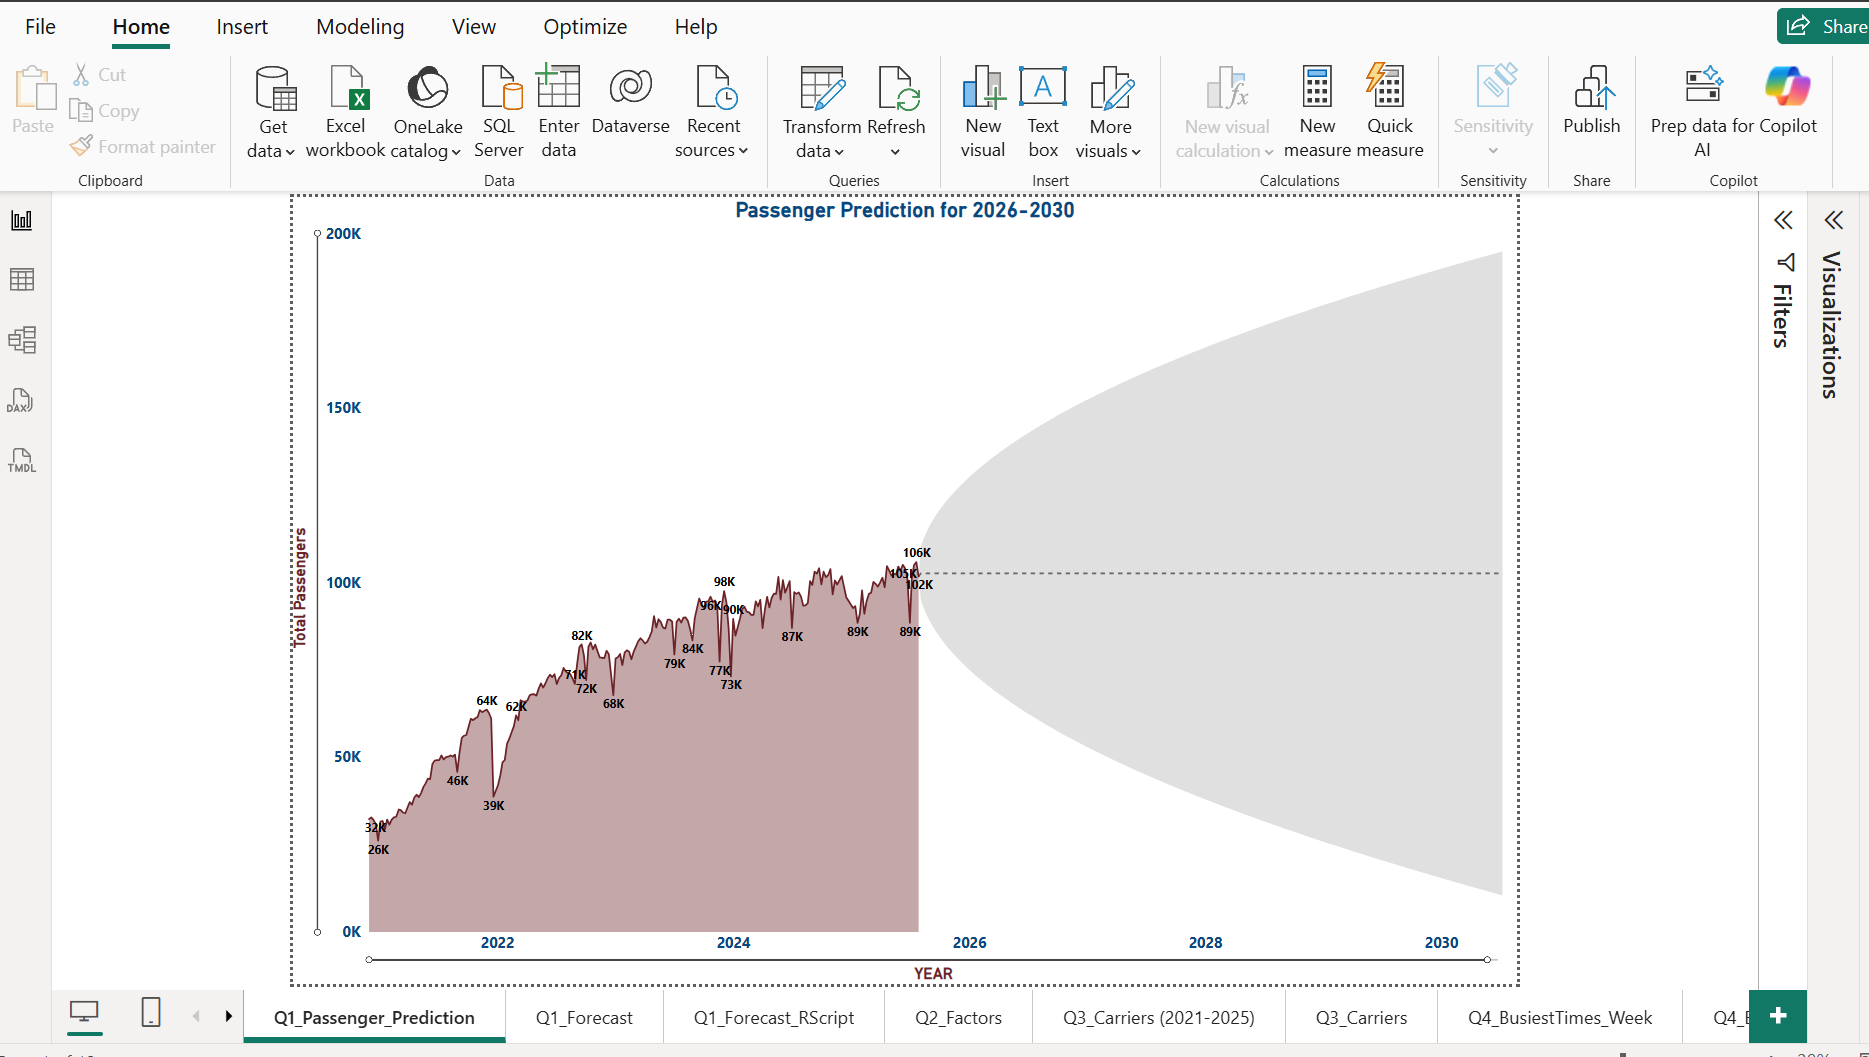

This screenshot's page, from the dashboard's own definition file:
{"tool":"powerbi","page":{"name":"Q1_Passenger_Prediction","canvas":[2800,1800],"ordinal":0},"visuals":[{"type":"lineChart","title":"Passenger Prediction for 2026-2030","fields":{"Category":["Date.Date"],"Y":["Fact_Carrier_Weekly.Passengers_Total"]},"box":[0,0,2800.3,1800.6],"z":0}]}

Visuals, with their boxes on the page's 2800x1800 design canvas (x1, y1, x2, y2). These are canvas units, not pixel positions in the 1869x1057 screenshot, which may show the page scaled, cropped or inside an application window:
"Passenger Prediction for 2026-2030" lineChart: [x1=0, y1=0, x2=2800, y2=1801]
